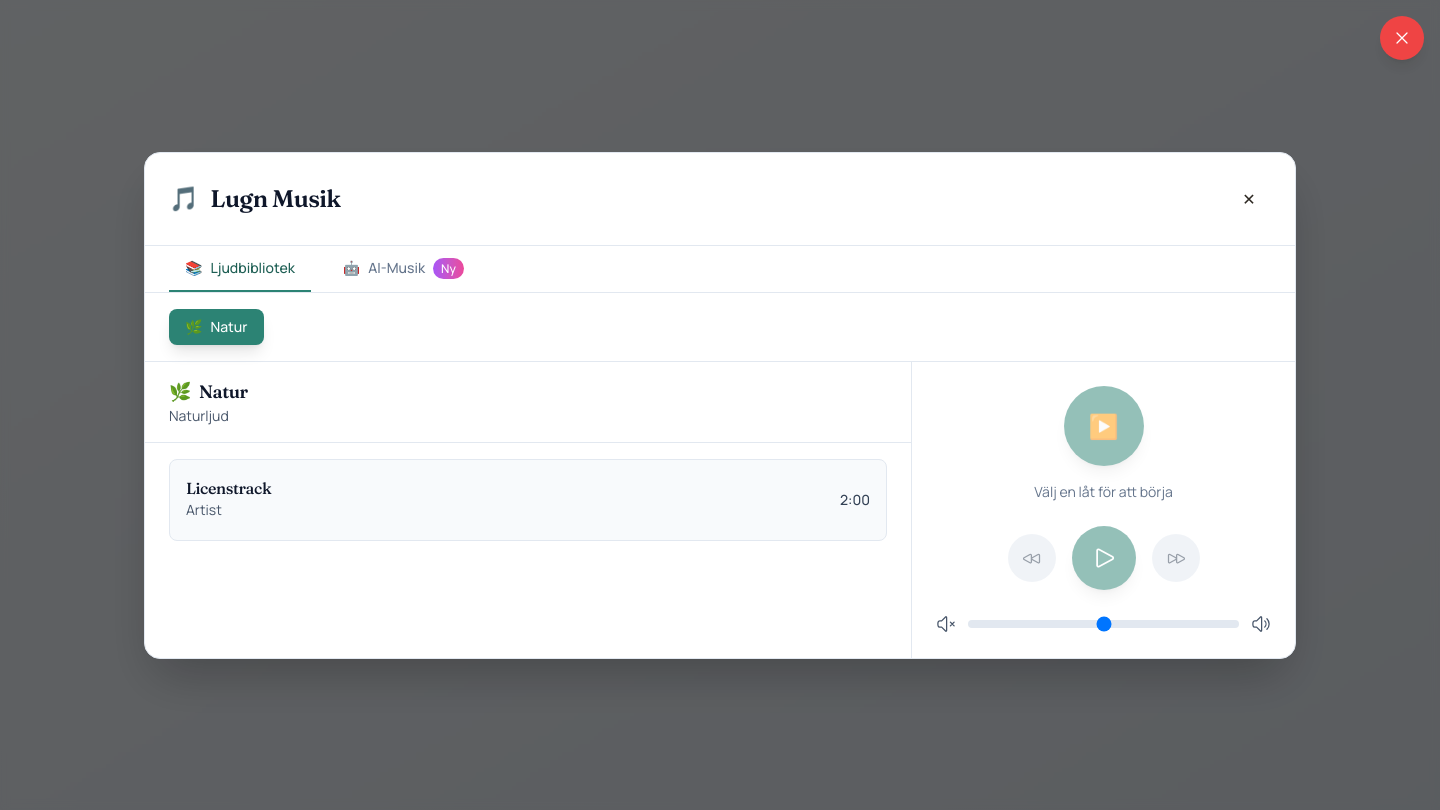
RelaxingSounds › shows license info for selected track
Click the heading "Licenstrack" at (229, 488), box [186,478,271,498]
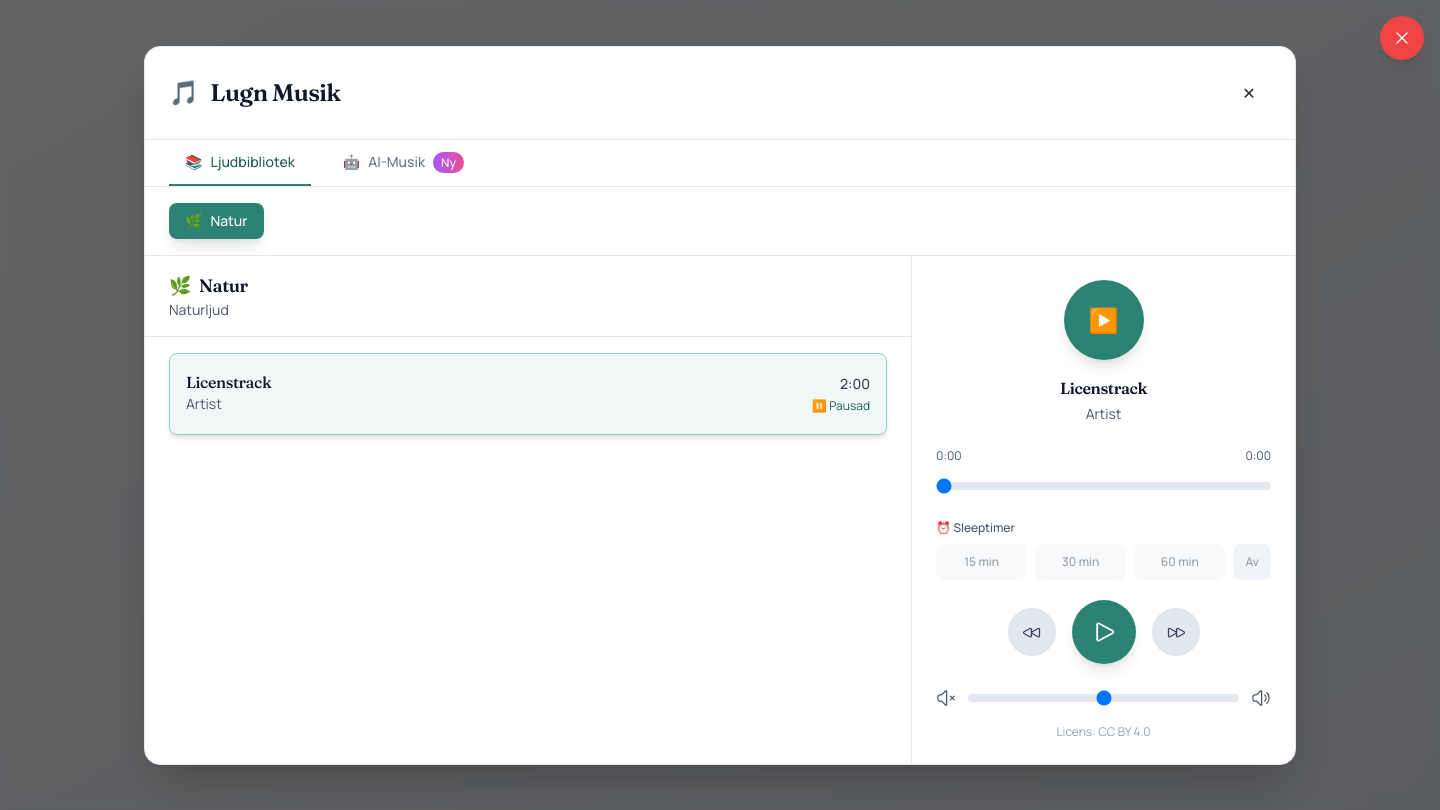
Expected: the text "Licens: CC BY 4.0" is shown, [1056,722,1150,740]
